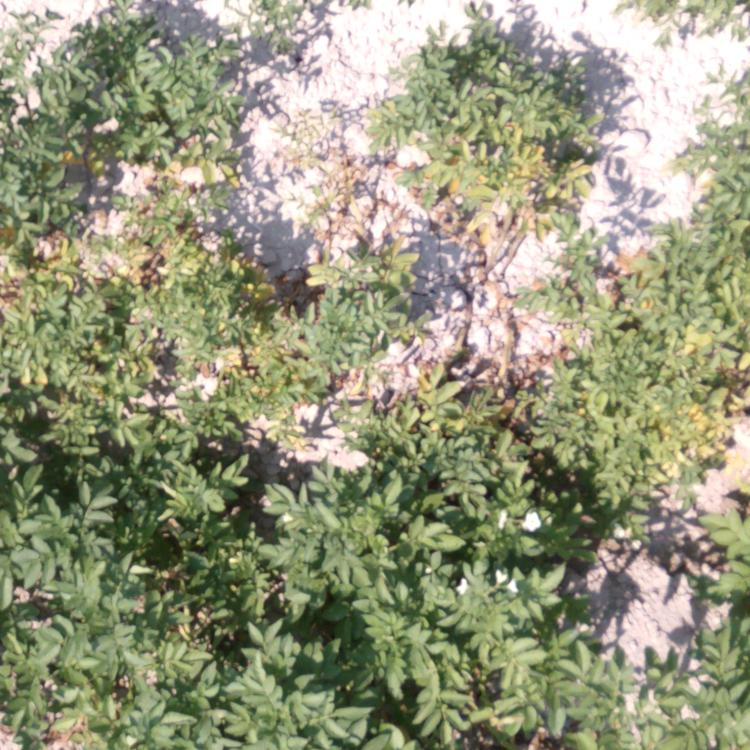healthy: (1, 442, 132, 750), (376, 456, 512, 750), (139, 457, 261, 750), (1, 1, 246, 145), (270, 454, 371, 750), (513, 630, 689, 750), (520, 486, 634, 633), (691, 495, 750, 750), (249, 1, 323, 88)
stressed: (371, 5, 611, 219), (512, 333, 750, 483), (122, 152, 283, 334), (506, 225, 745, 331), (1, 147, 120, 338), (190, 335, 368, 450), (1, 337, 183, 439), (284, 224, 439, 341), (363, 339, 503, 458), (671, 65, 749, 228), (296, 131, 374, 214), (637, 1, 749, 37)
